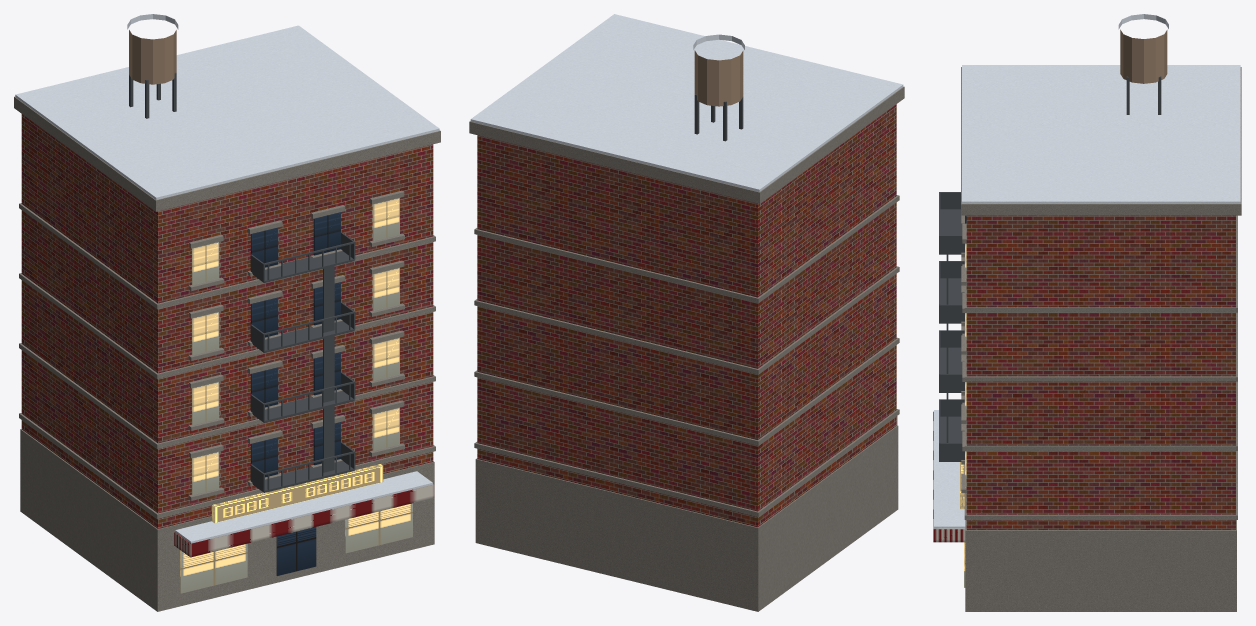
The model's file is nyc_apartment_brick.glb.
The picture shows the model from 3 angles, left to right: view 1: azimuth 30°, elevation 25°; view 2: azimuth 150°, elevation 25°; view 3: azimuth 270°, elevation 25°; orthographic projection. The views are drawn at different scales.
Parts seen in each view (by area): view 1: nyc_apartment_brick.glb; view 2: nyc_apartment_brick.glb; view 3: nyc_apartment_brick.glb.
Part boxes in pixels (x1=…): nyc_apartment_brick.glb: x1=14, y1=14, x2=440, y2=611; nyc_apartment_brick.glb: x1=469, y1=14, x2=904, y2=611; nyc_apartment_brick.glb: x1=933, y1=14, x2=1241, y2=611.
Size of the model in its own units: 14.5 by 24.33 by 13.72.
9 materials, 7 textured.
